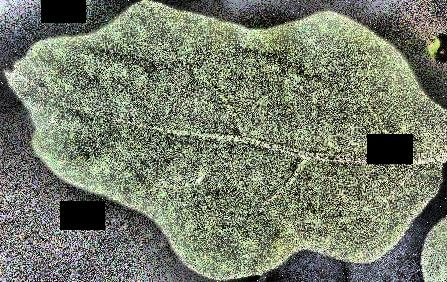HEALTHY: (1, 1, 447, 282)
